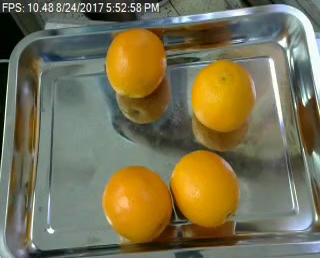Orange: (170, 149, 241, 229), (101, 165, 173, 243), (190, 57, 258, 134), (105, 27, 167, 98)
